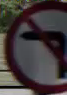Don't turn left: (5, 9, 66, 81)
